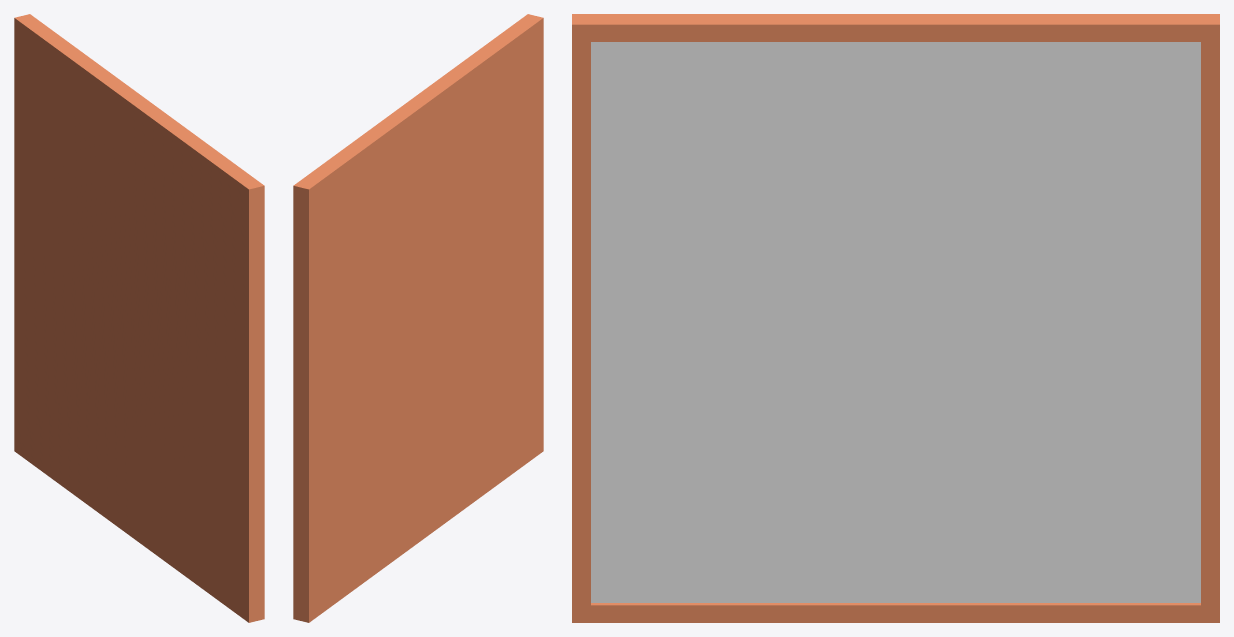
Rendered from PictureFrame_Large.FBX.
The picture shows the model from 3 angles, left to right: view 1: azimuth 30°, elevation 25°; view 2: azimuth 150°, elevation 25°; view 3: azimuth 270°, elevation 25°; orthographic projection. The views are drawn at different scales.
Parts seen in each view (by area): view 1: PictureFrame; view 2: PictureFrame; view 3: PictureFrame.
Part boxes in pixels (box(x1,y1,x2,y2)): PictureFrame: box(14, 14, 264, 622); PictureFrame: box(293, 14, 543, 622); PictureFrame: box(572, 14, 1219, 622).
Bounding box in the file's own units: 2.69 × 71.1 × 69.74.
